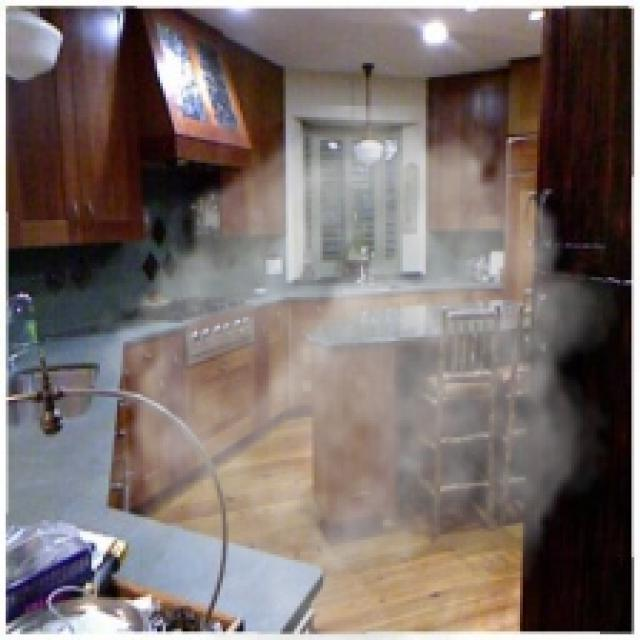Smoke: (80, 105, 623, 638)
